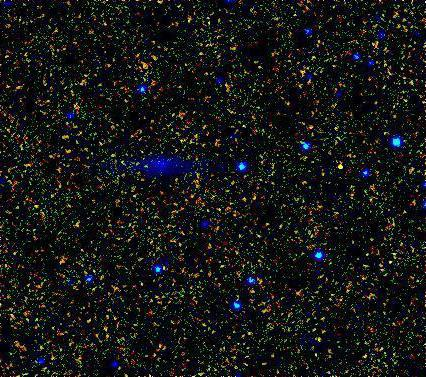star: (326, 152, 356, 182)
